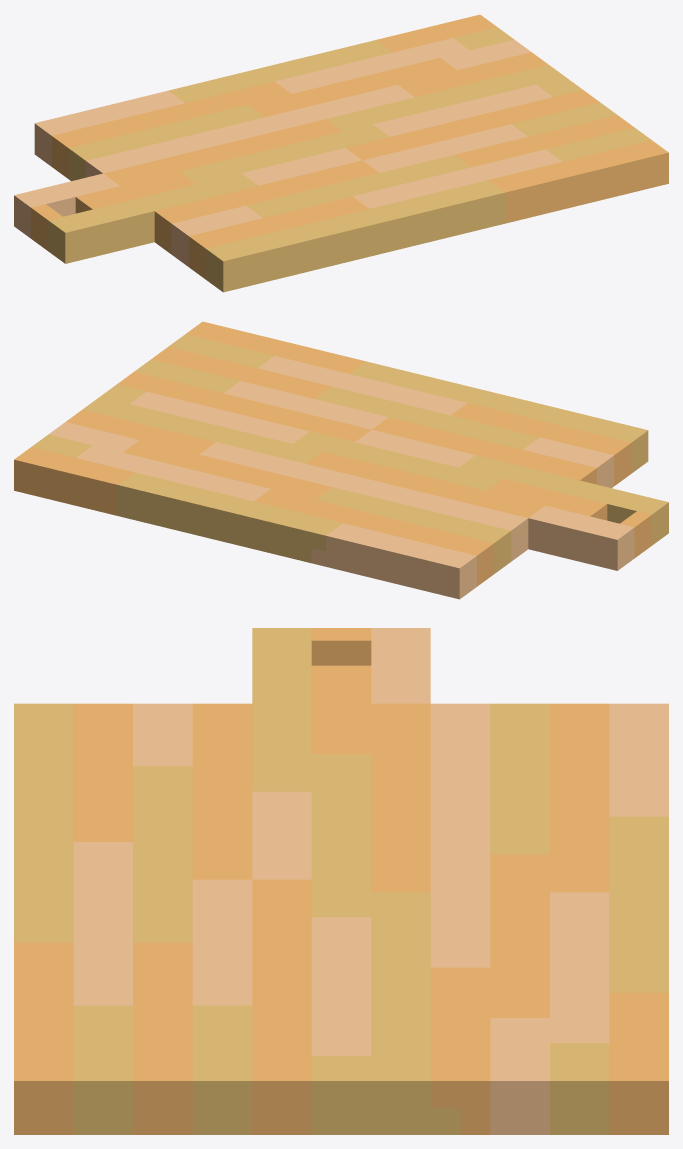
Rendered from cuttingboard.obj.
3 renders of one model, top to bottom at view 1: azimuth 30°, elevation 25°; view 2: azimuth 150°, elevation 25°; view 3: azimuth 270°, elevation 25°, orthographic. The views are drawn at different scales.
Bounding box in the file's own units: 3.6 × 0.2 × 2.2.
1 material, 1 textured.
